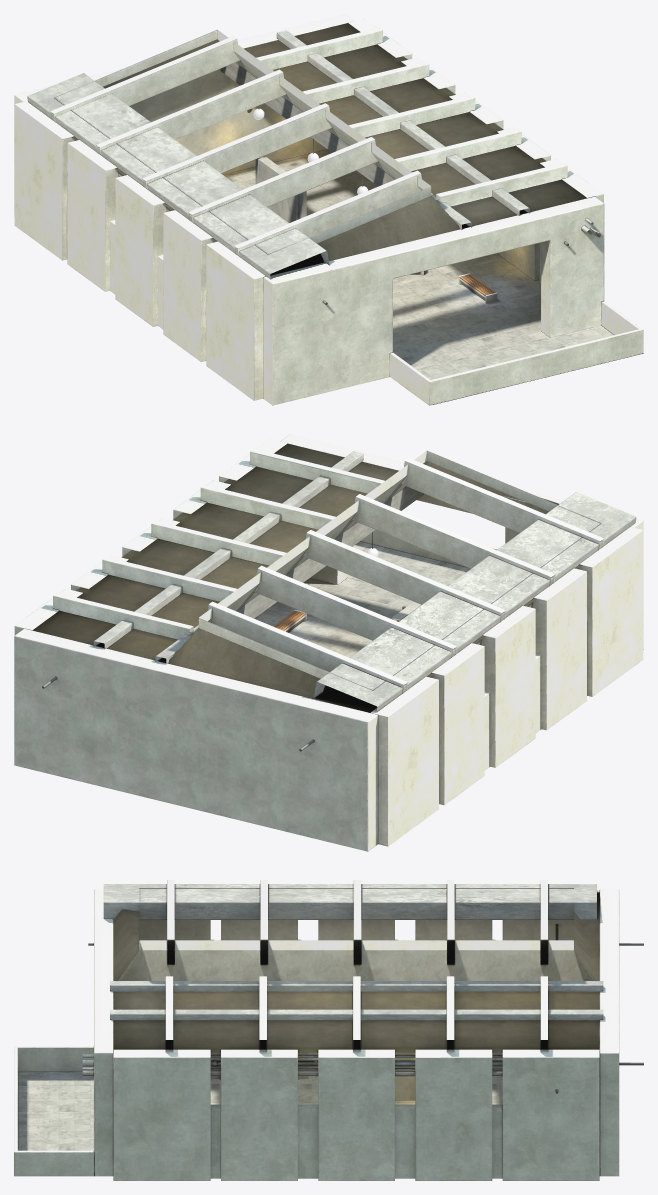
Rendered from room1.glb.
3 renders of one model, top to bottom at view 1: azimuth 30°, elevation 25°; view 2: azimuth 150°, elevation 25°; view 3: azimuth 270°, elevation 25°, orthographic. The views are drawn at different scales.
Parts seen in each view (by area): view 1: Wall_ForBake_Baked, Ceiling_ForBake_Baked, Floor_ForBake_Baked, PartyWall_ForBake_Baked, Bench_ForBake_Baked; view 2: Wall_ForBake_Baked, Ceiling_ForBake_Baked, Floor_ForBake_Baked; view 3: Wall_ForBake_Baked, Ceiling_ForBake_Baked, Floor_ForBake_Baked, Pipe_ForBake_Baked, PartyWall_ForBake_Baked.
Boxes of the visible parts, box(x1,y1,x2,y2) form: Wall_ForBake_Baked: box(14, 14, 643, 405); Ceiling_ForBake_Baked: box(27, 23, 586, 304); Floor_ForBake_Baked: box(223, 149, 643, 404); PartyWall_ForBake_Baked: box(255, 156, 306, 222); Bench_ForBake_Baked: box(410, 271, 497, 303); Wall_ForBake_Baked: box(14, 434, 643, 851); Ceiling_ForBake_Baked: box(32, 443, 636, 751); Floor_ForBake_Baked: box(254, 541, 470, 657); Wall_ForBake_Baked: box(14, 884, 619, 1180); Ceiling_ForBake_Baked: box(88, 880, 643, 1093); Floor_ForBake_Baked: box(18, 1053, 502, 1150); Pipe_ForBake_Baked: box(82, 1054, 502, 1076); PartyWall_ForBake_Baked: box(210, 1053, 415, 1100).
Bounding box in the file's own units: 21.36 × 9.29 × 32.39.
8 materials, 8 textured.
